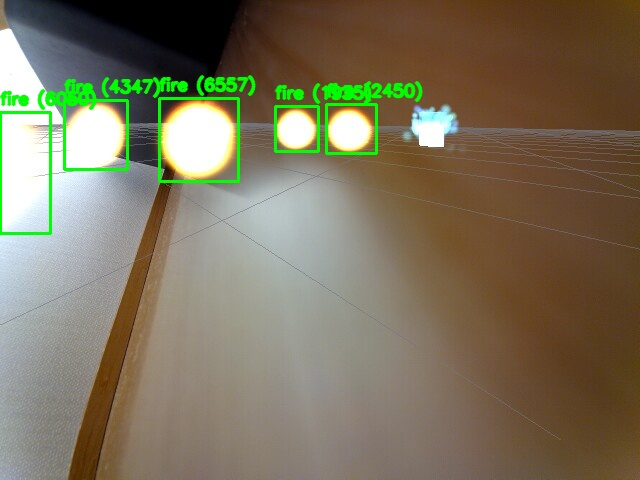fire: (159, 98, 238, 181), (0, 112, 50, 233), (64, 100, 127, 169), (326, 104, 376, 153), (275, 106, 318, 151)
